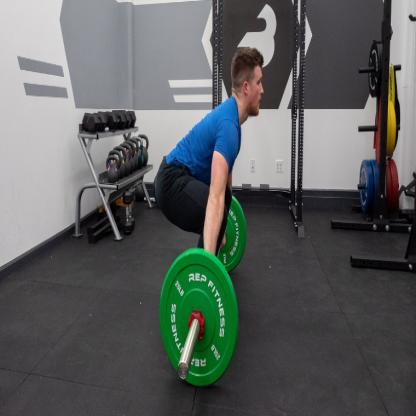barbell: (161, 254, 239, 389)
